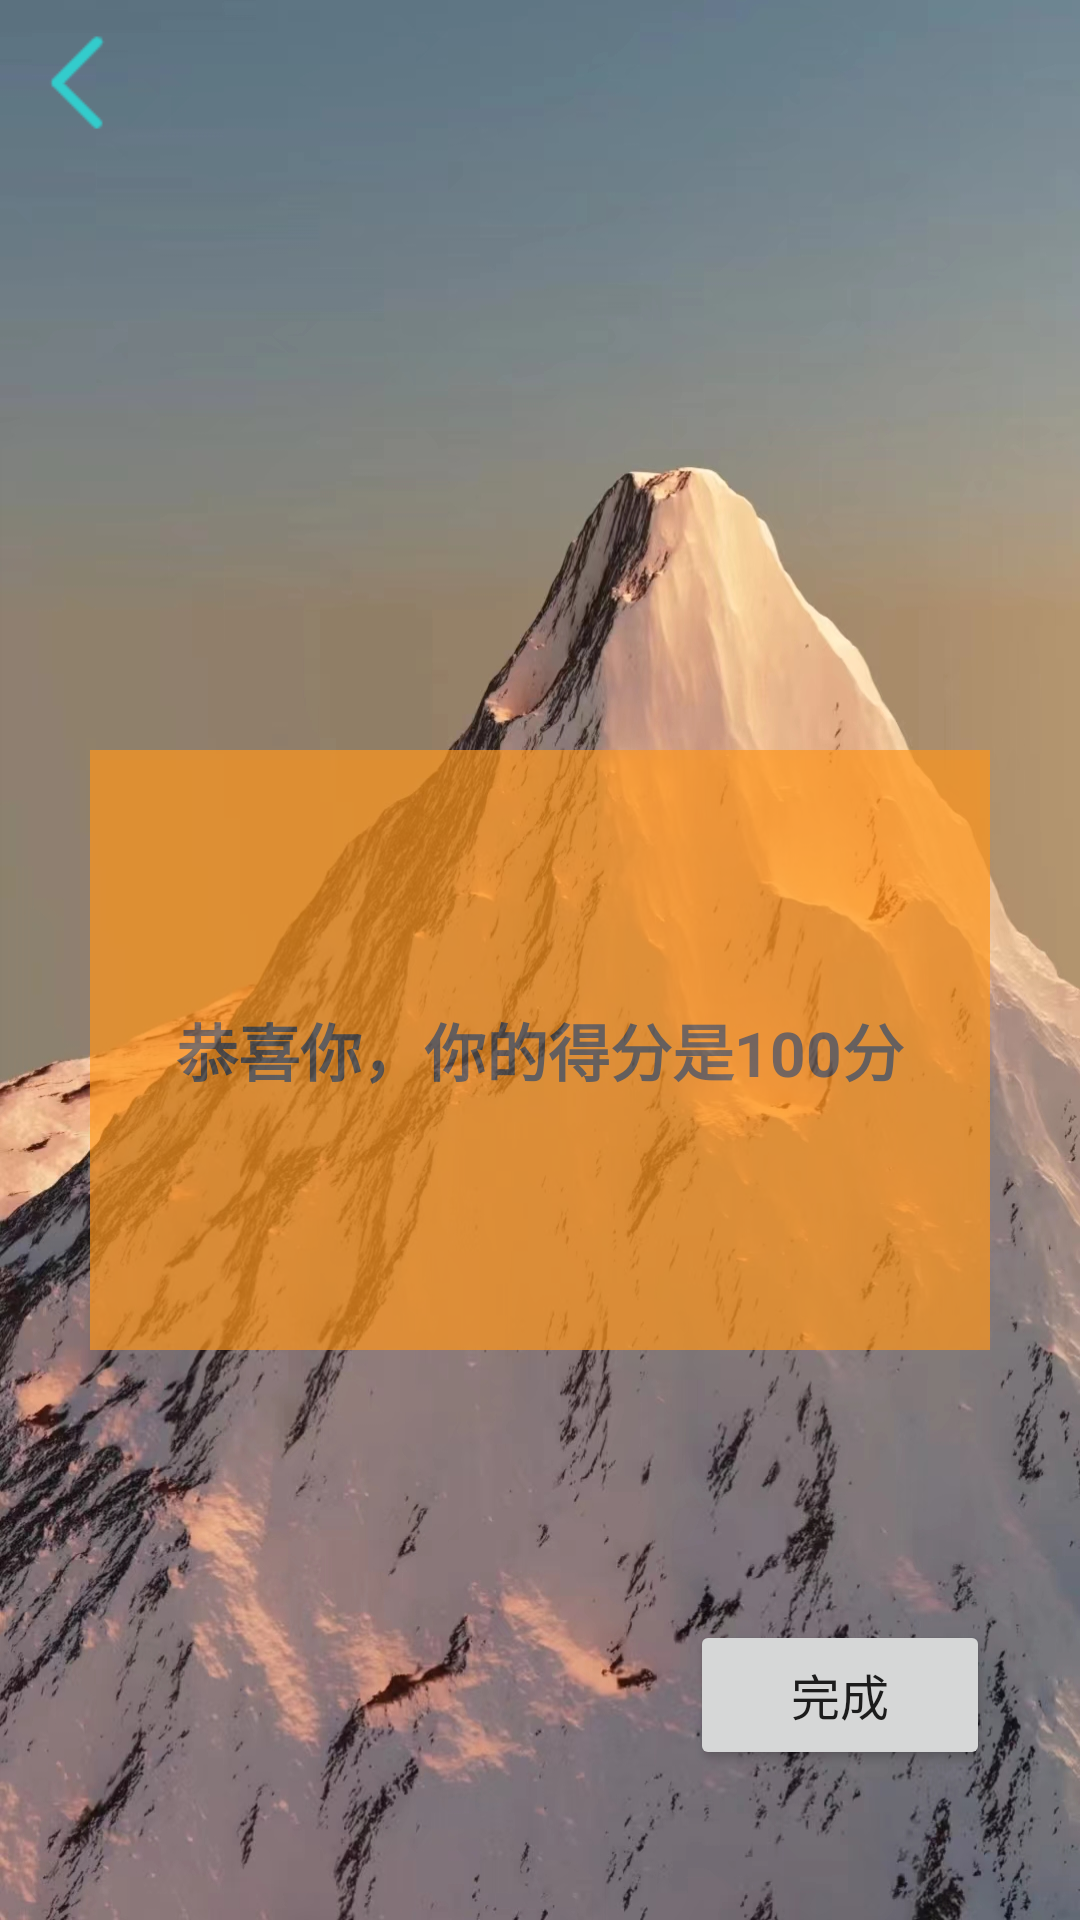

Icon click points for this 1080px×1920px phone screenshot, format (x=x, y=y):
back: (x=77, y=82)
